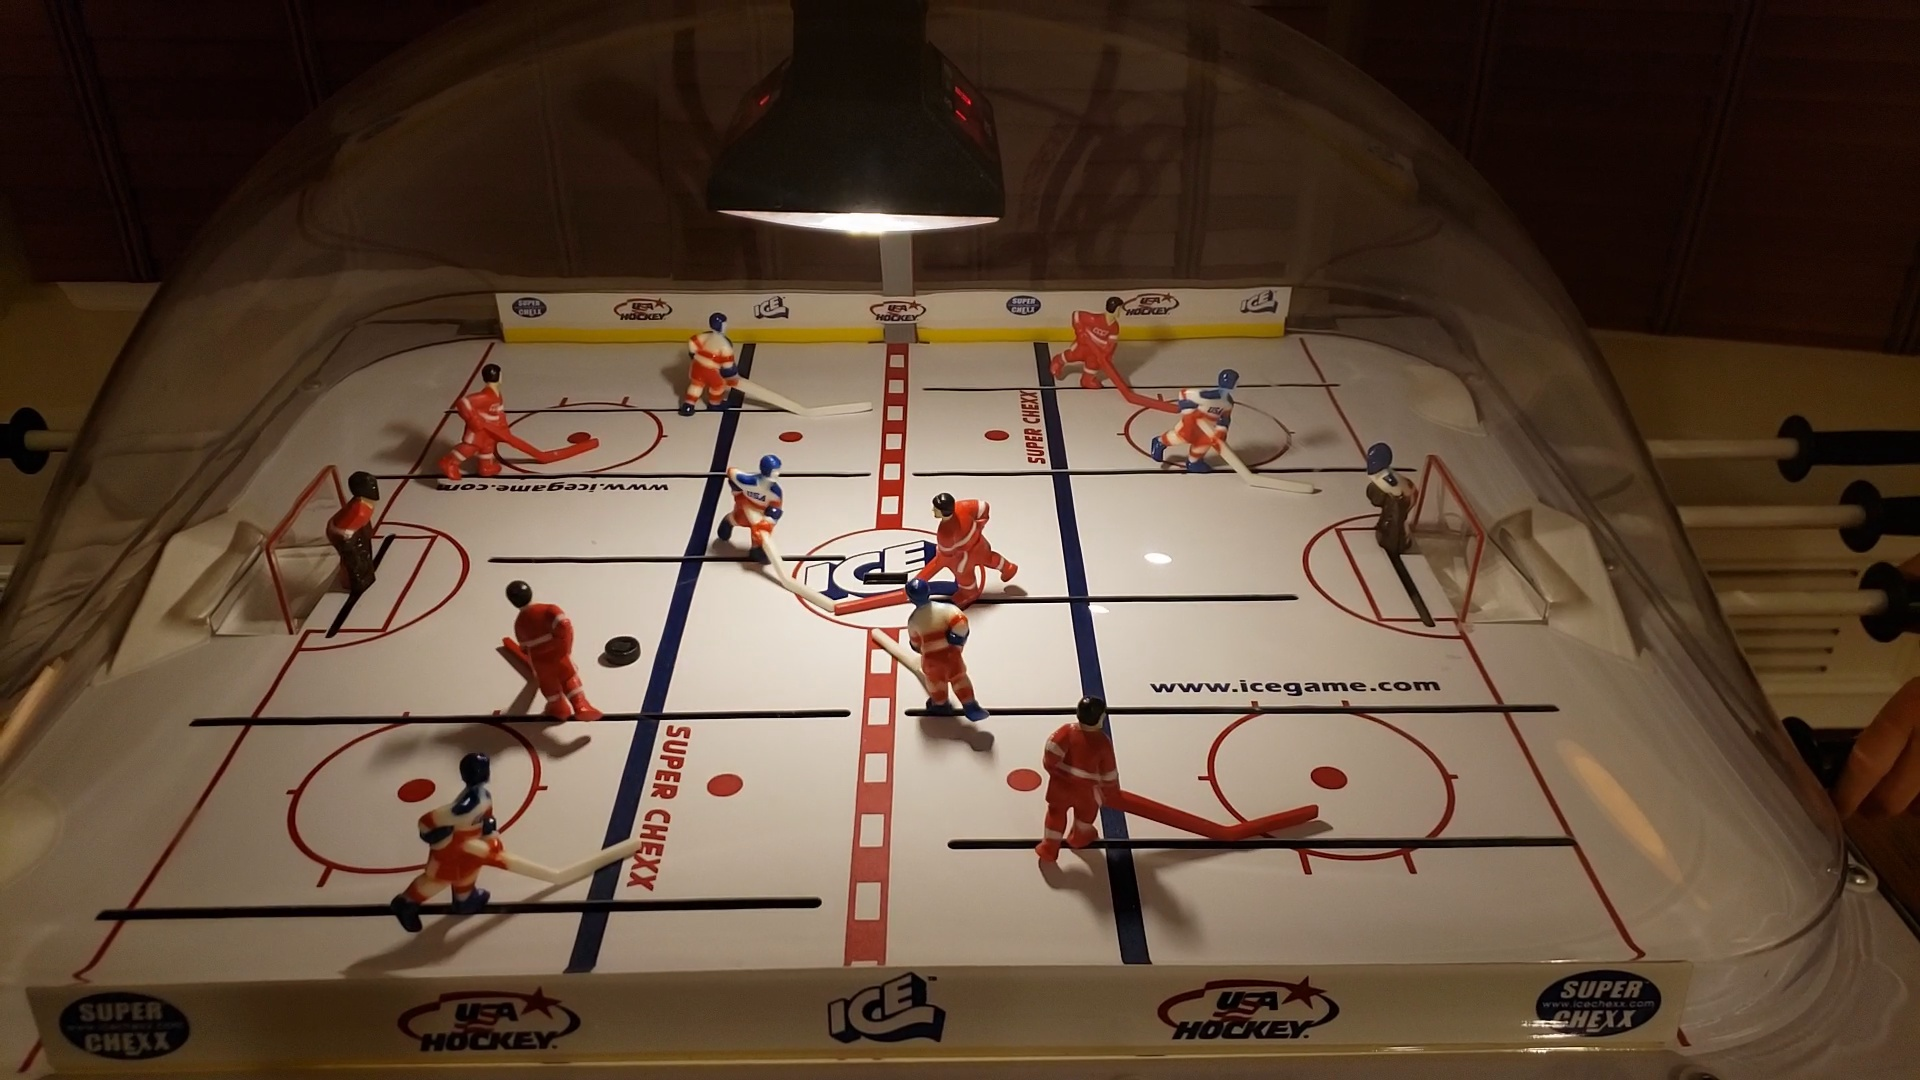puck: (600, 633, 644, 662)
